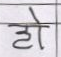e_matra: (28, 7, 42, 23)
